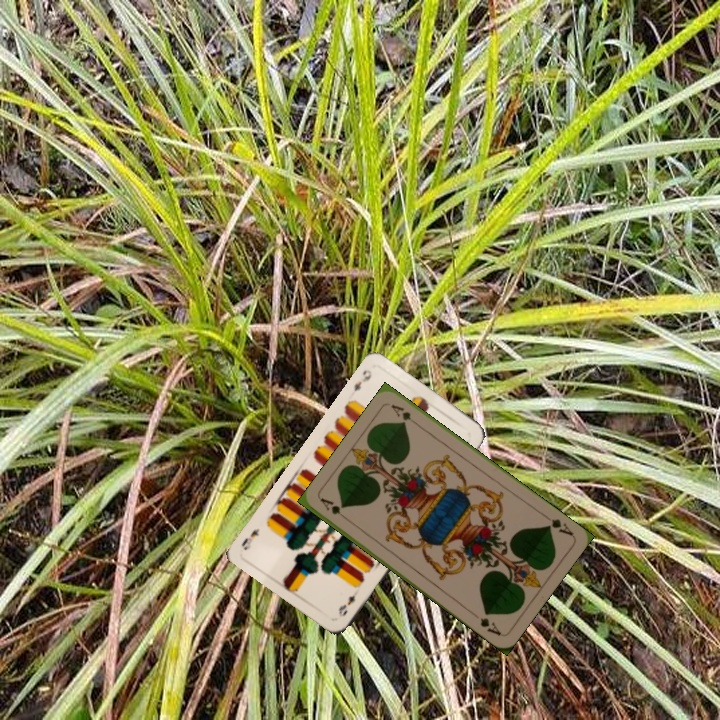E9: (334, 591, 358, 620), (350, 366, 374, 394)
GA: (539, 510, 576, 539), (317, 494, 352, 524)
